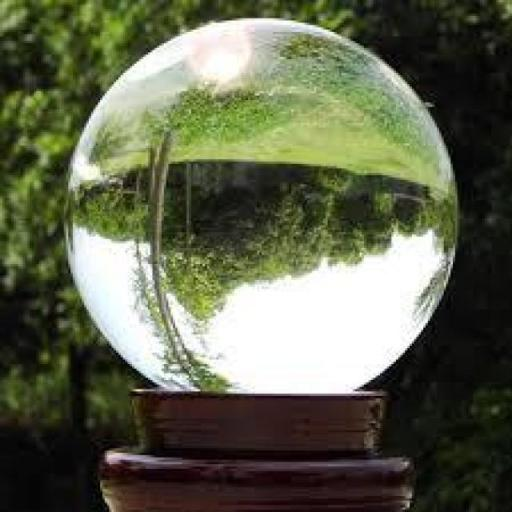glass: (48, 2, 462, 406)
